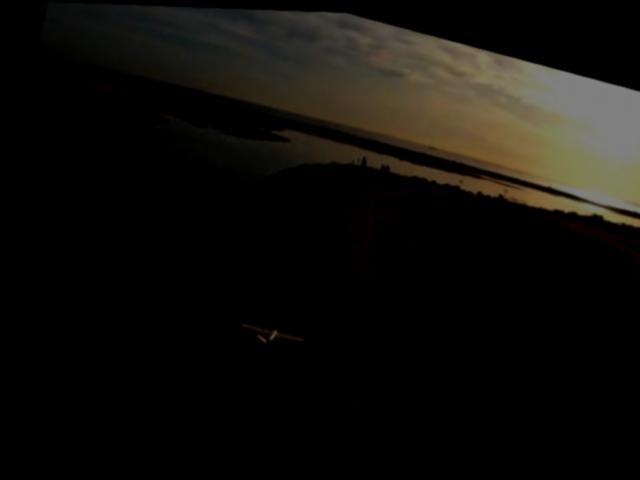uav: (233, 310, 309, 355)
